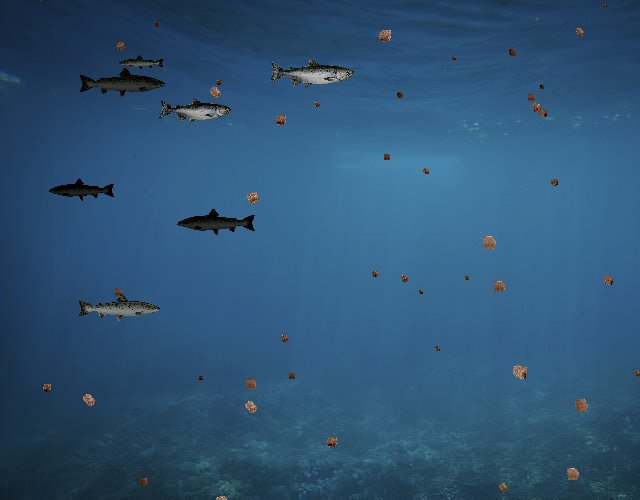Fish: (78, 66, 168, 99), (76, 292, 162, 323), (268, 58, 354, 89), (177, 207, 258, 236), (158, 98, 231, 124), (48, 178, 116, 202), (119, 54, 166, 71)
Pellet: (475, 228, 503, 256), (487, 275, 511, 299), (203, 80, 227, 104), (493, 477, 513, 497), (526, 97, 546, 117), (462, 272, 472, 283)
